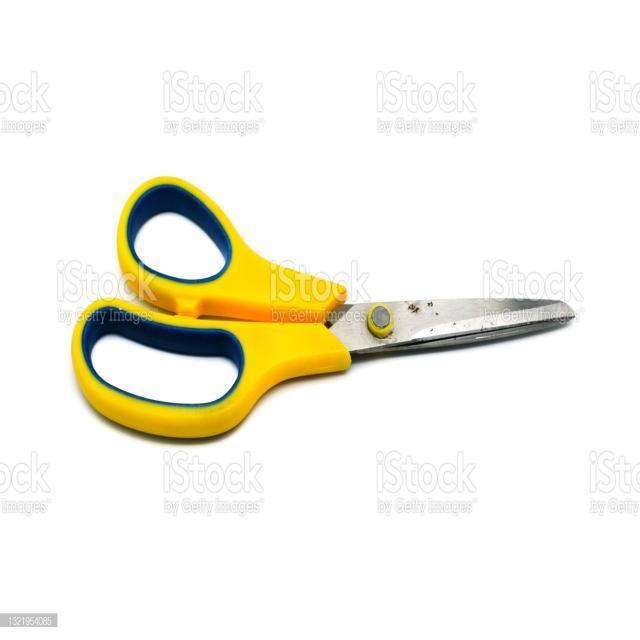scissor: (66, 178, 582, 442)
